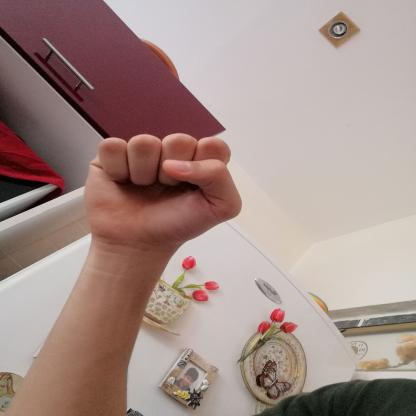SAD: (60, 120, 263, 263)
